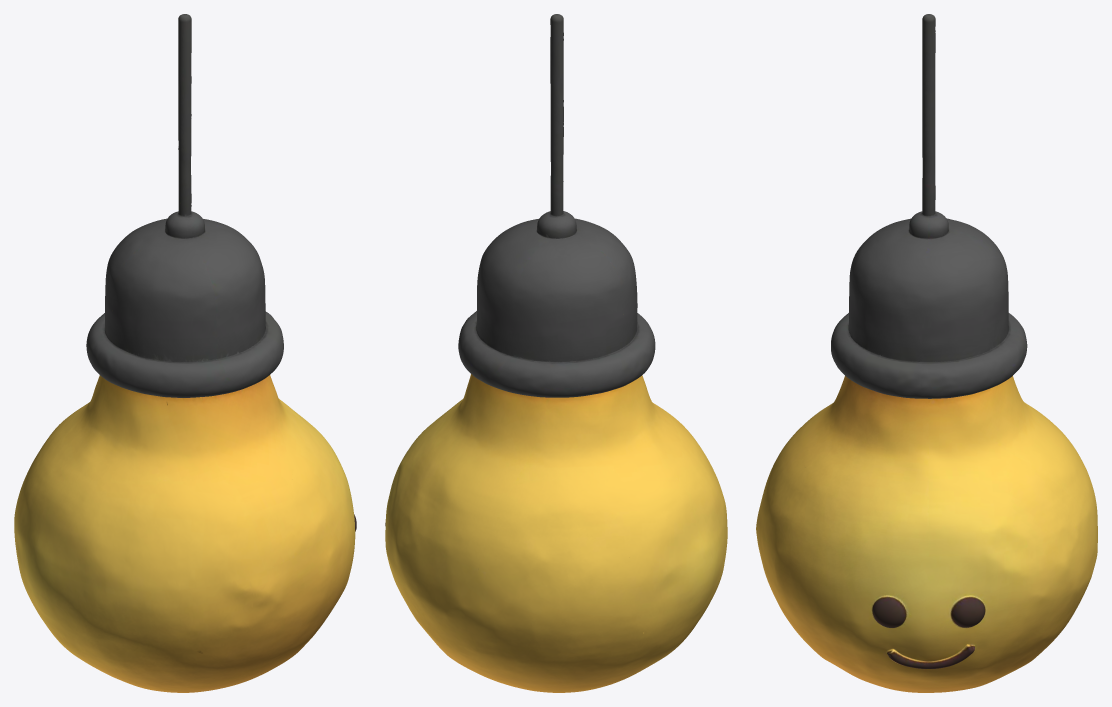
Rendered from lamp-alt-web.glb.
The picture shows the model from 3 angles, left to right: view 1: azimuth 30°, elevation 25°; view 2: azimuth 150°, elevation 25°; view 3: azimuth 270°, elevation 25°; orthographic projection.
Parts seen in each view (by area): view 1: tripo_node_ad24f1fc-d87f-4342-980b-0c49db7857ad; view 2: tripo_node_ad24f1fc-d87f-4342-980b-0c49db7857ad; view 3: tripo_node_ad24f1fc-d87f-4342-980b-0c49db7857ad.
Boxes of the visible parts, x1,y1,x2,y2 form: tripo_node_ad24f1fc-d87f-4342-980b-0c49db7857ad: (14, 14, 356, 692); tripo_node_ad24f1fc-d87f-4342-980b-0c49db7857ad: (385, 14, 727, 692); tripo_node_ad24f1fc-d87f-4342-980b-0c49db7857ad: (756, 14, 1097, 692).
Size of the model in its own units: 0.475 by 1 by 0.4681.
Materials: 1 (1 with a texture image).
